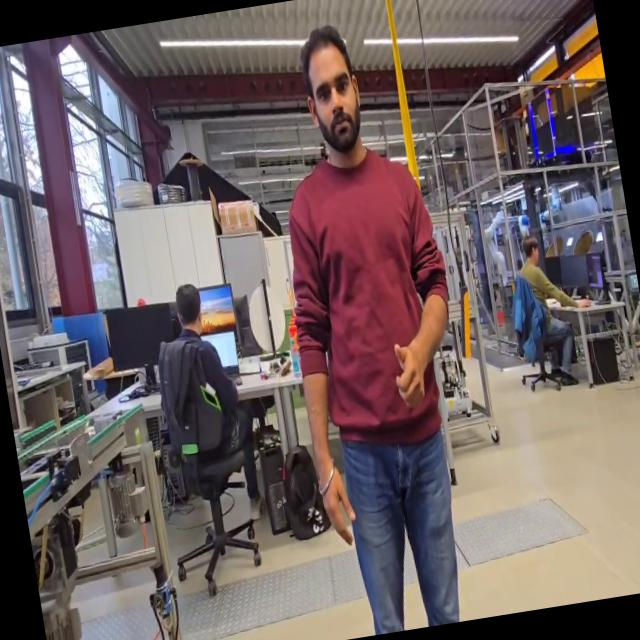thumbs_up: (379, 332, 438, 424)
